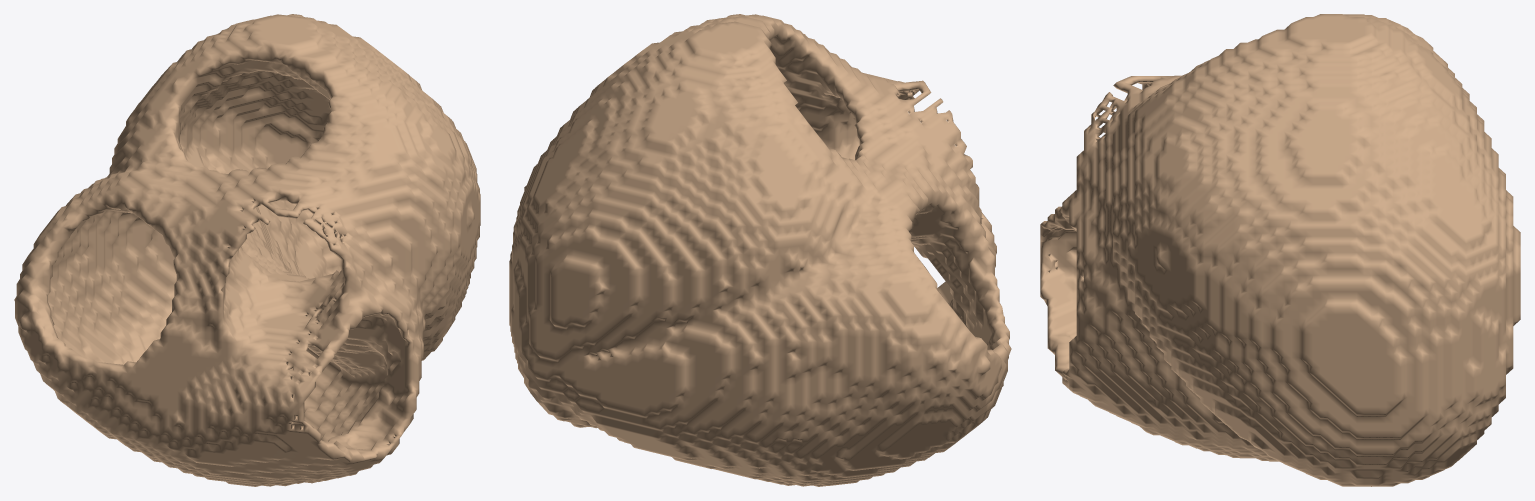
The model's file is myo.glb.
The picture shows the model from 3 angles, left to right: view 1: azimuth 30°, elevation 25°; view 2: azimuth 150°, elevation 25°; view 3: azimuth 270°, elevation 25°; orthographic projection. The views are drawn at different scales.
Parts seen in each view (by area): view 1: structure; view 2: structure; view 3: structure.
Boxes of the visible parts, box(x1,y1,x2,y2) form: structure: box(14, 14, 480, 486); structure: box(509, 14, 1011, 486); structure: box(1040, 14, 1520, 486).
Size of the model in its own units: 118 by 107 by 106.
